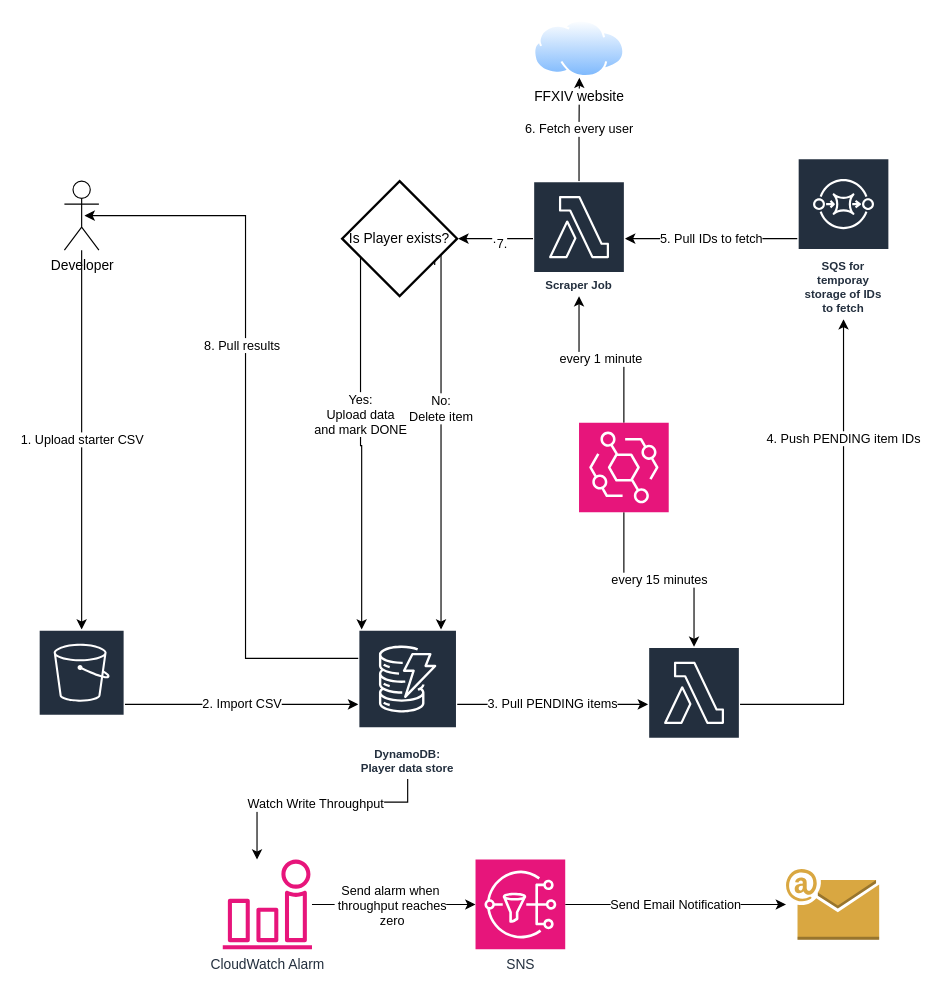
Some shapes in this 940 by 992 pixel diagram are drawn without their labels. Here are the shapes that lost their labels. From the top down, the centre of each, then its label:
(x=623, y=466): EventBridge hadnles scheduling
(x=81, y=703): S3 for static storage
(x=693, y=704): Loader Job
(x=832, y=904): Dev Email
